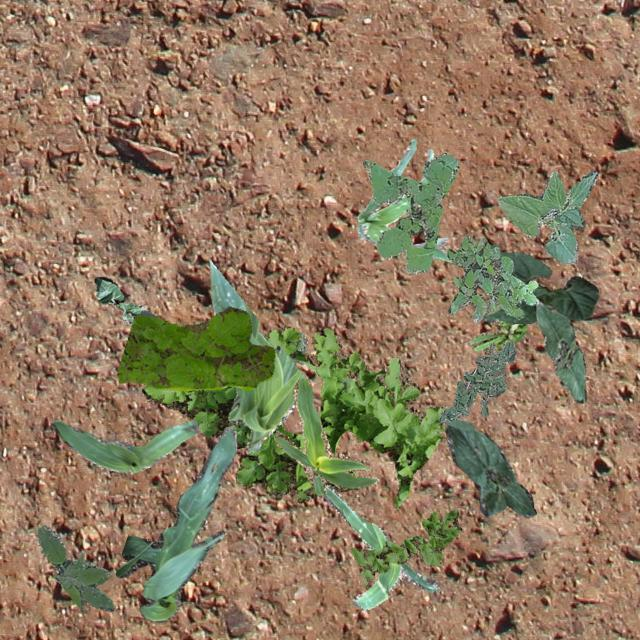crop: (114, 426, 236, 622), (208, 260, 304, 452), (322, 484, 438, 610), (272, 376, 378, 494), (356, 138, 449, 260), (496, 168, 596, 264), (444, 418, 536, 516), (483, 250, 598, 324), (50, 419, 198, 472), (534, 300, 586, 402), (94, 276, 146, 322)
weed: (140, 326, 448, 506), (115, 306, 274, 390), (362, 152, 458, 272), (350, 509, 460, 585), (446, 234, 538, 320), (36, 524, 114, 610), (438, 338, 514, 422), (468, 302, 526, 352), (288, 332, 306, 362)
